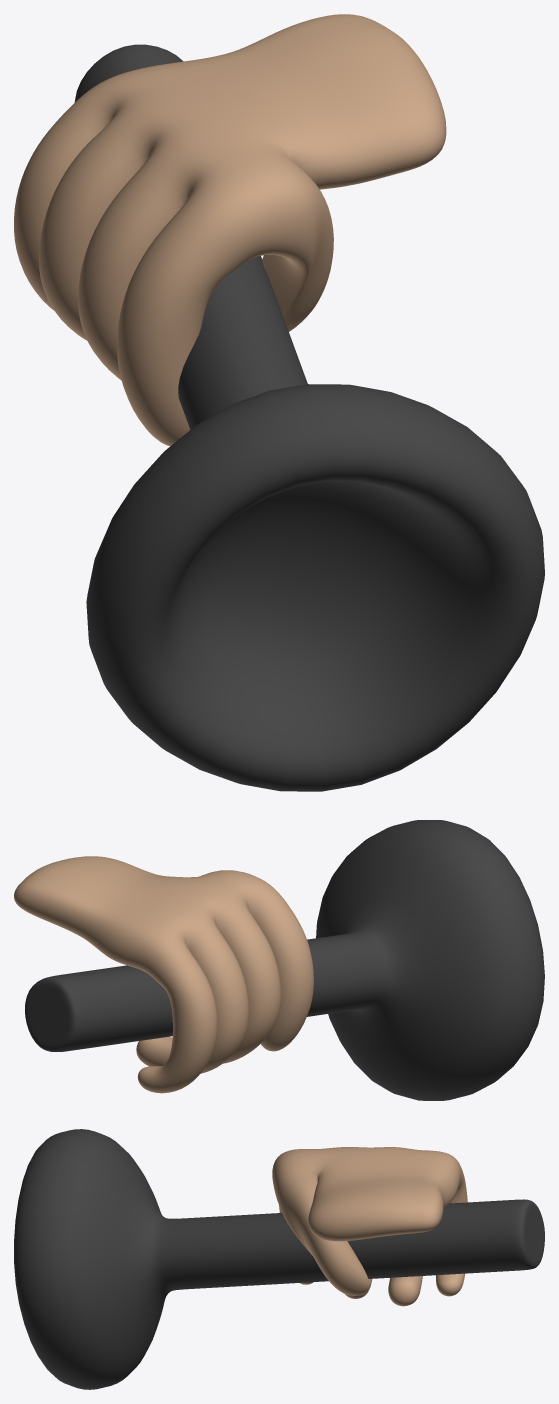
File: character.glb
The picture shows the model from 3 angles, top to bottom: view 1: azimuth 30°, elevation 25°; view 2: azimuth 150°, elevation 25°; view 3: azimuth 270°, elevation 25°; orthographic projection. The views are drawn at different scales.
Parts seen in each view (by area): view 1: Cube.081; view 2: Cube.081; view 3: Cube.081.
Part boxes in pixels (x1=…): Cube.081: x1=14, y1=14, x2=544, y2=791; Cube.081: x1=14, y1=820, x2=544, y2=1100; Cube.081: x1=14, y1=1129, x2=544, y2=1389.
Size of the model in its own units: 0.7442 by 0.603 by 1.08.
